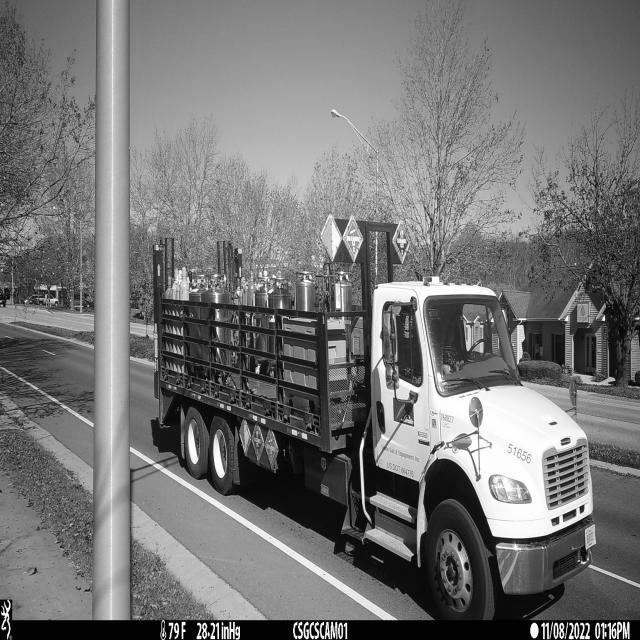Box Truck: (151, 218, 595, 621)
